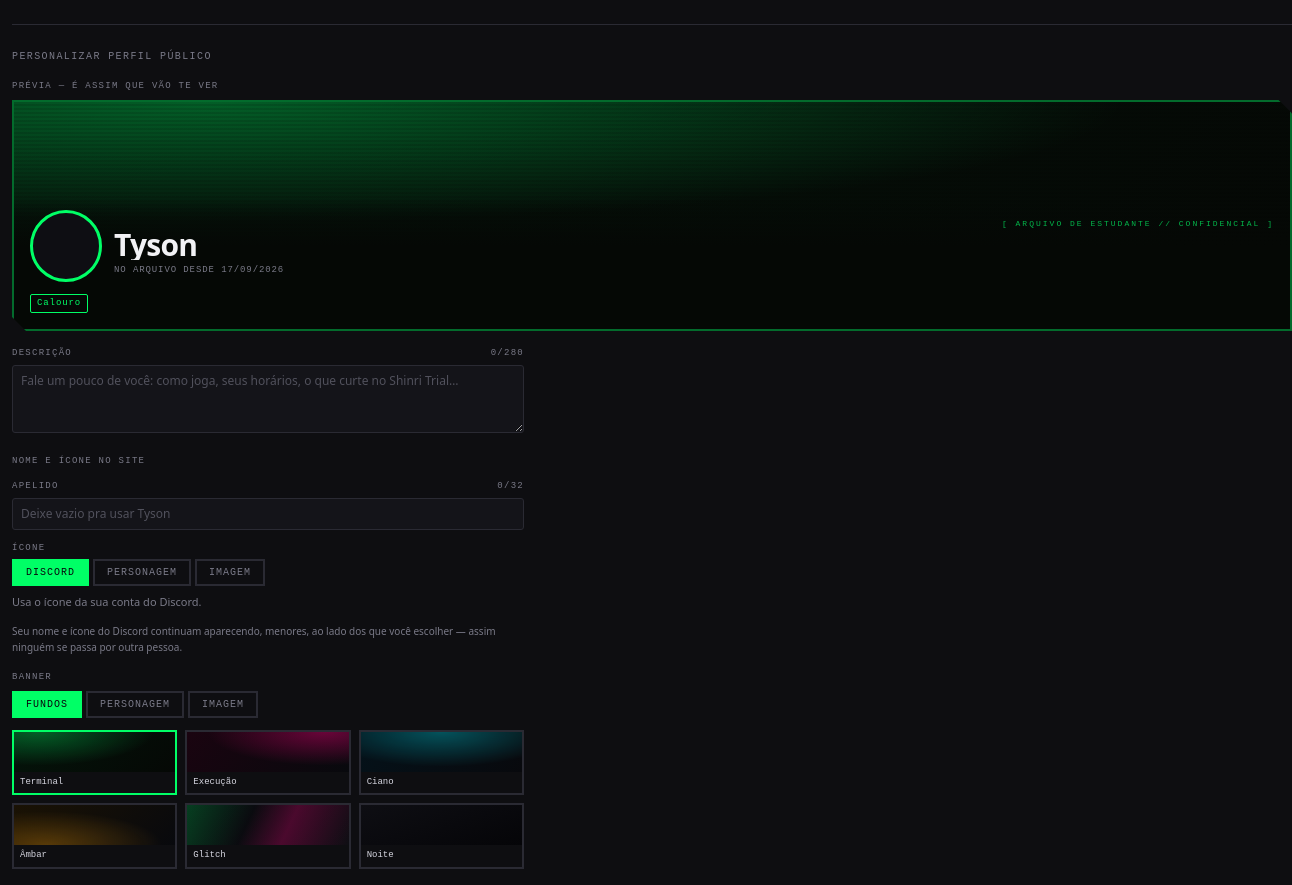
Scenario: PersonalizarPerfil › link de host não permitido mostra o erro e a prévia não carrega a imagem
Click the tab "IMAGEM" below "BANNER" at [223, 704], box [188,690,258,718]
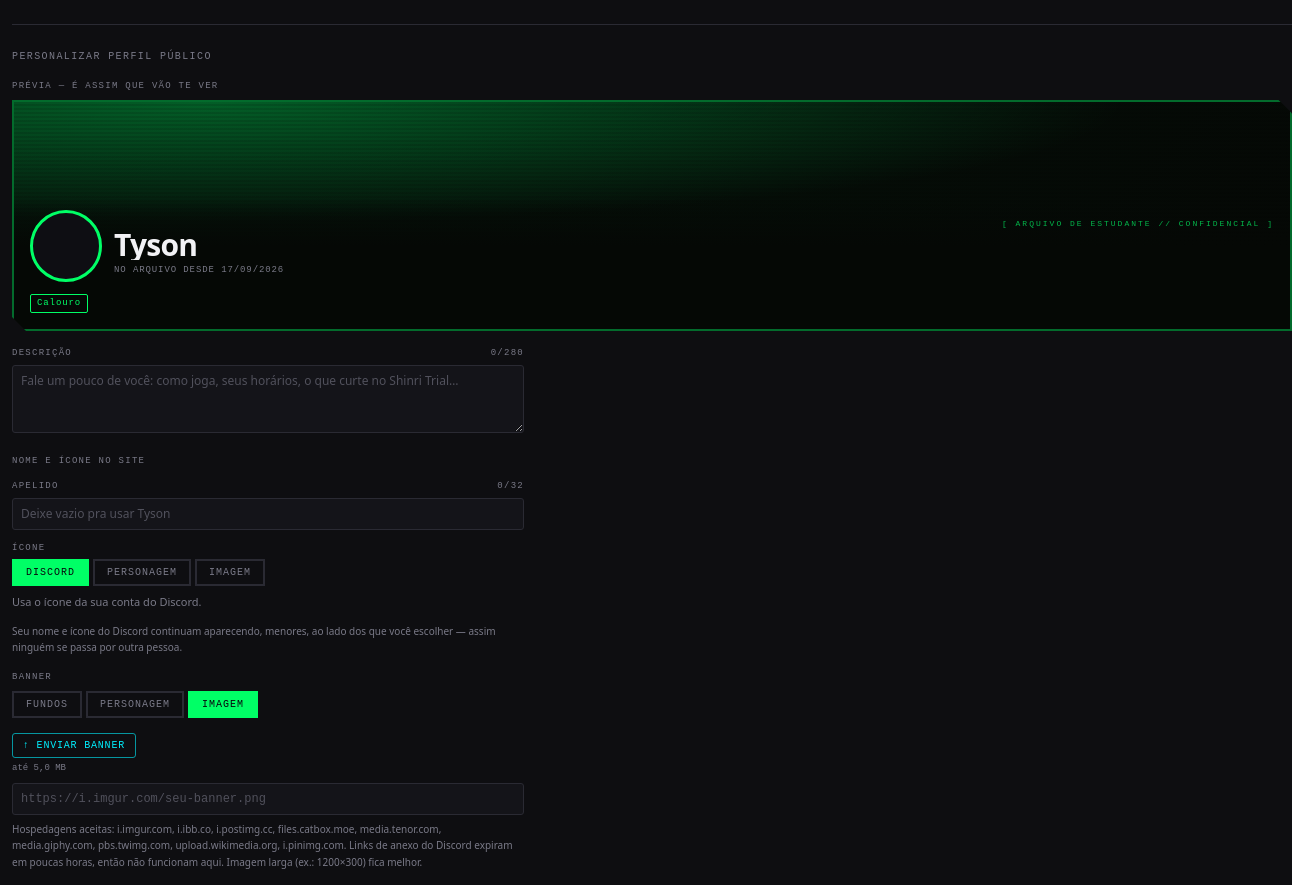
Type "https://evil.example/x.png" into the field with placeholder "https://i.imgur.com/seu-banner.png" at [268, 799], box [12,783,524,815]
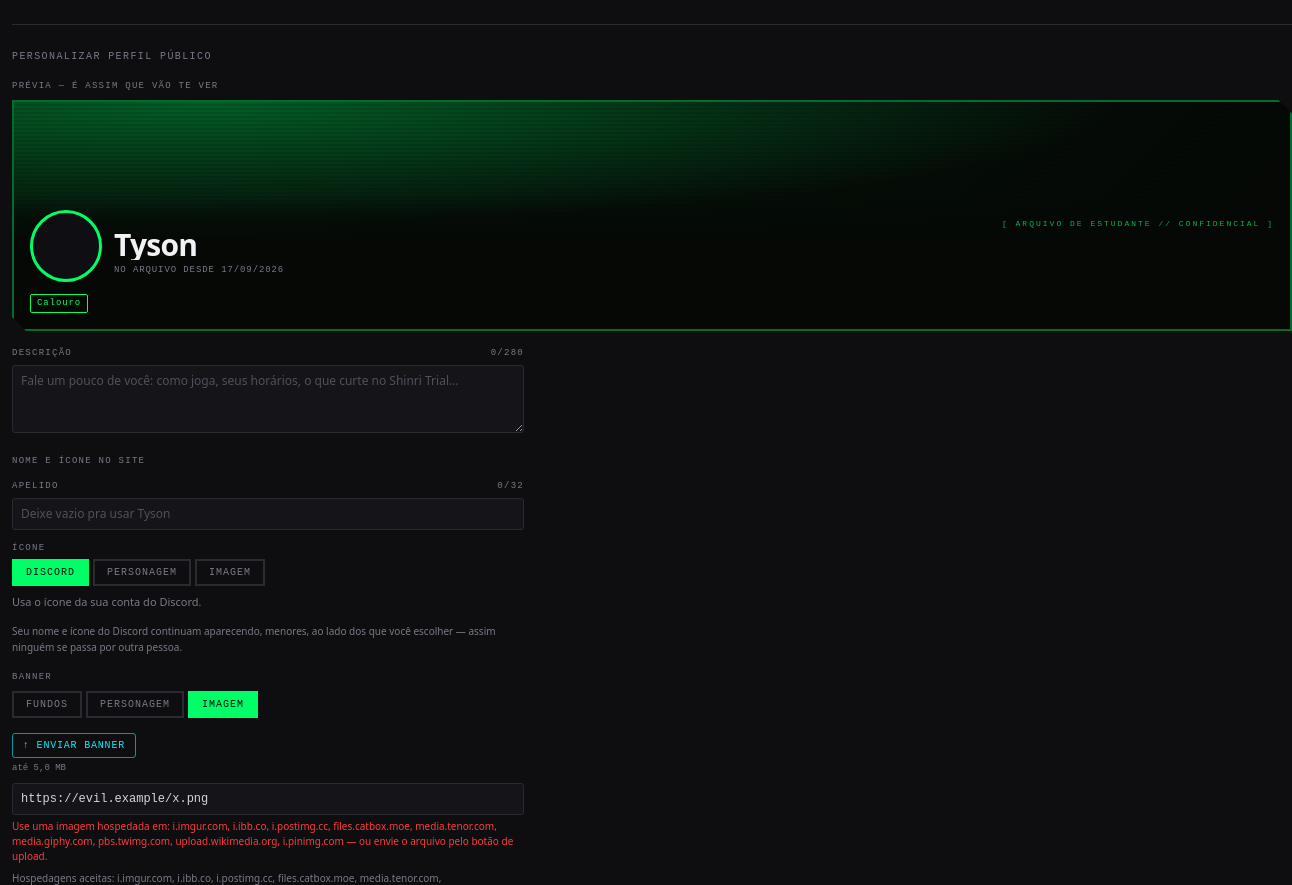
expect the message shows "Use uma imagem hospedada em": met, box [12,819,513,863]
